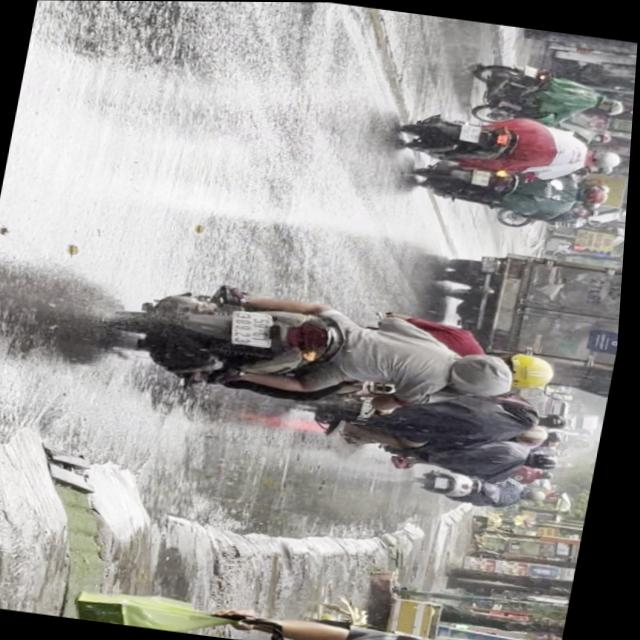helmet: (449, 350, 520, 398), (495, 346, 563, 390), (589, 144, 627, 168), (581, 180, 614, 203), (597, 93, 628, 113)
licenseplate: (100, 265, 577, 434), (397, 99, 633, 185), (407, 153, 619, 225), (466, 56, 635, 128)
nohelmet: (233, 308, 279, 347), (462, 122, 485, 140), (475, 167, 495, 183)
